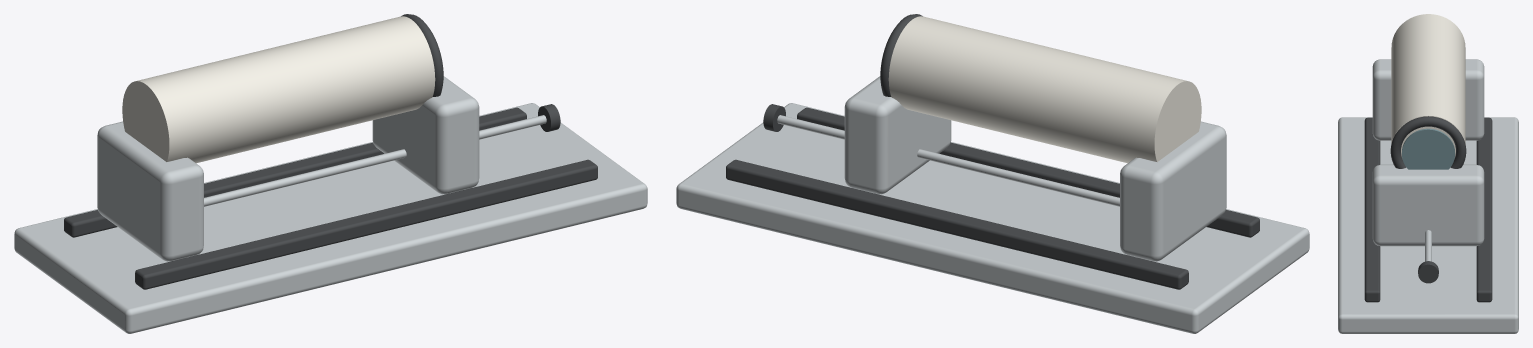
Rendered from camera-repair-and-darkroom-laboratory-optical-collimat-b4de0063__31774.glb.
3 renders of one model, left to right at view 1: azimuth 30°, elevation 25°; view 2: azimuth 150°, elevation 25°; view 3: azimuth 270°, elevation 25°, orthographic. The views are drawn at different scales.
Parts seen in each view (by area): view 1: optical-collimator; view 2: optical-collimator; view 3: optical-collimator.
Boxes of the visible parts, x1,y1,x2,y2 form: optical-collimator: [14, 14, 647, 333]; optical-collimator: [676, 14, 1309, 333]; optical-collimator: [1338, 14, 1518, 333].
Bounding box in the file's own units: 0.55 × 0.194 × 0.21.
